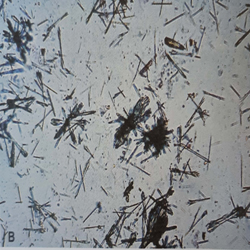Crystal: (137, 190, 177, 250), (110, 93, 149, 154), (173, 125, 221, 167), (51, 104, 97, 147), (84, 1, 136, 36), (2, 15, 38, 62), (162, 34, 201, 77), (24, 189, 61, 232), (1, 115, 32, 164), (209, 196, 250, 232), (142, 114, 171, 162), (65, 156, 98, 197), (32, 71, 61, 116), (187, 88, 215, 132), (226, 79, 250, 123), (168, 162, 205, 189), (1, 52, 34, 77), (1, 92, 41, 112), (135, 52, 159, 78), (231, 21, 250, 49)
